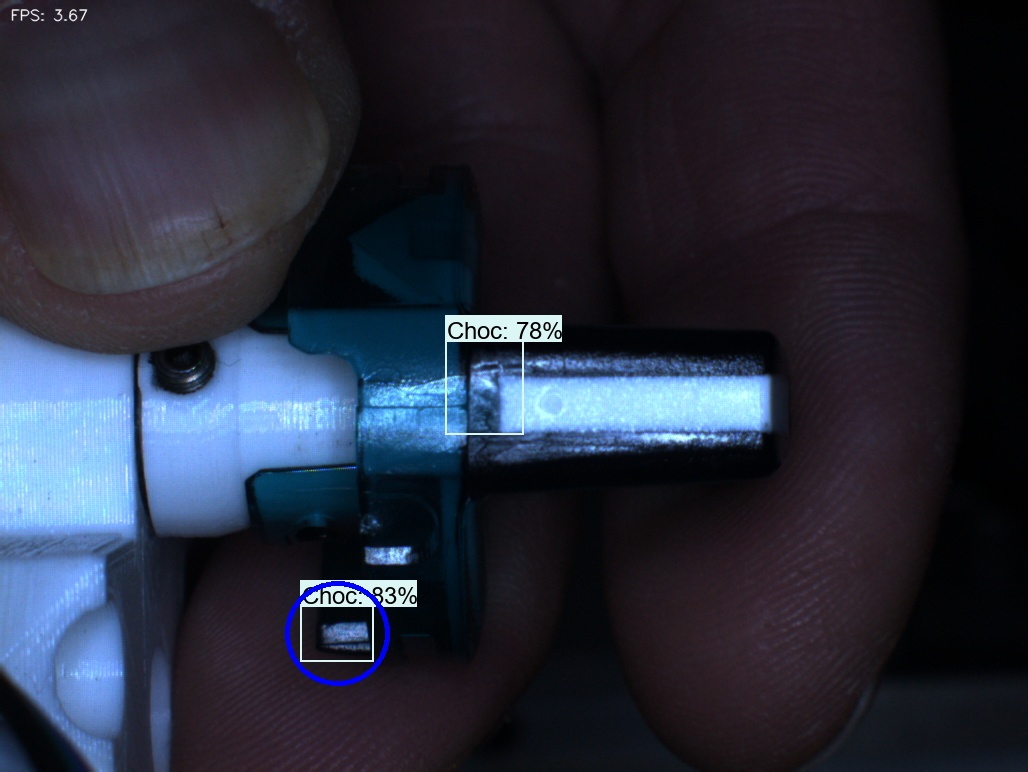DentOk: (327, 197, 396, 305)
